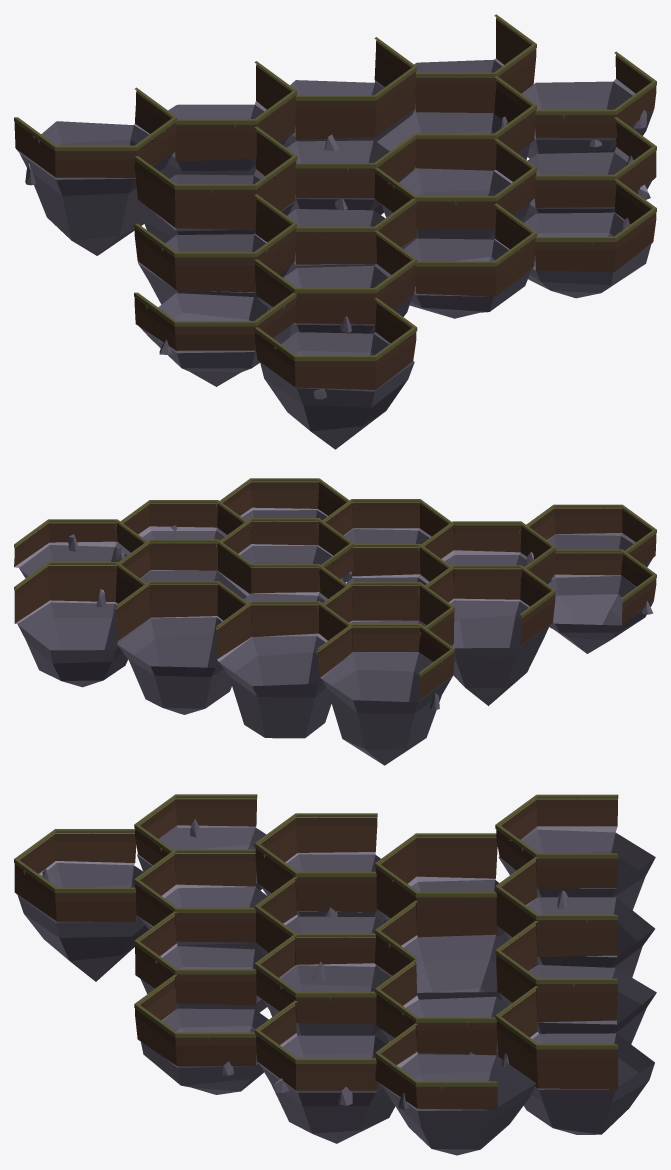
Rendered from island_socket_right.glb.
3 renders of one model, top to bottom at view 1: azimuth 30°, elevation 25°; view 2: azimuth 150°, elevation 25°; view 3: azimuth 270°, elevation 25°, orthographic. The views are drawn at different scales.
Visible parts, largest first — view 1: island_socket_right_mesh; view 2: island_socket_right_mesh; view 3: island_socket_right_mesh.
Boxes of the visible parts, <box> form: island_socket_right_mesh: <box>14,14,656,449</box>; island_socket_right_mesh: <box>14,478,656,765</box>; island_socket_right_mesh: <box>14,794,656,1155</box>.
Bounding box in the file's own units: 9.68 × 2.38 × 8.82.
